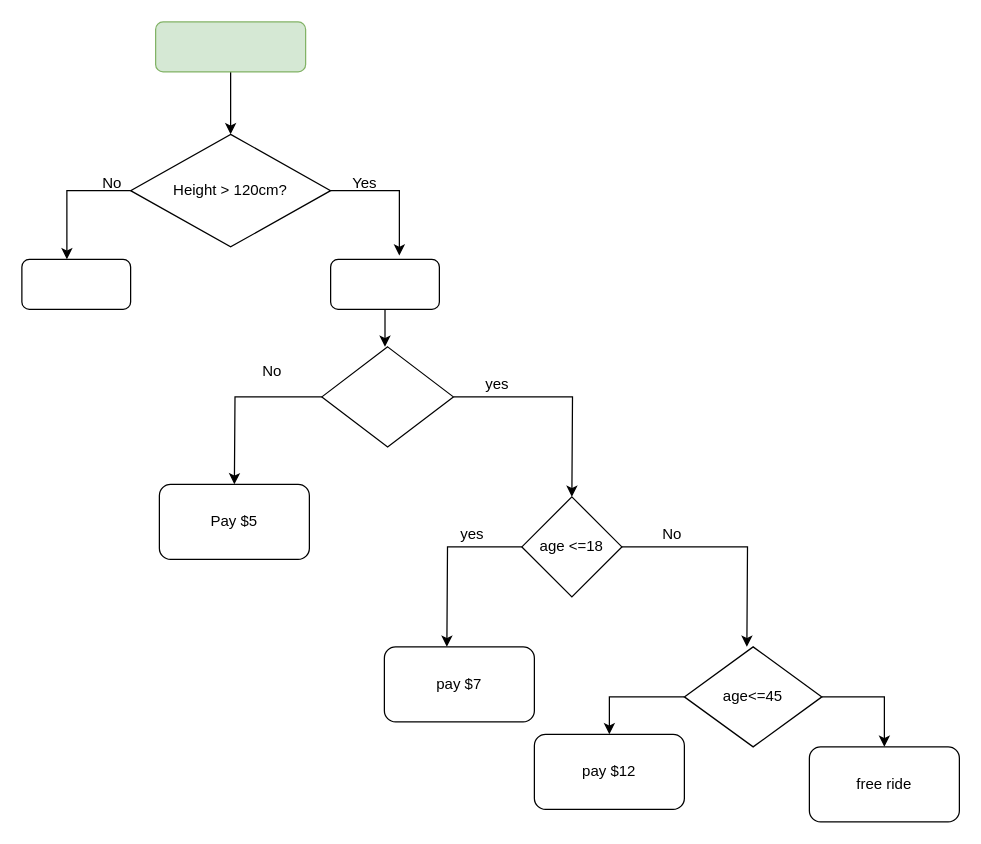
Image size: 981x844. Some labels were removed from this diagram. The centre of each missing label's shape, as x and y in pixels:
age >12: the point at 387,396
Can ride: the point at 384,283
Can't ride: the point at 76,283
Start: the point at 230,46
